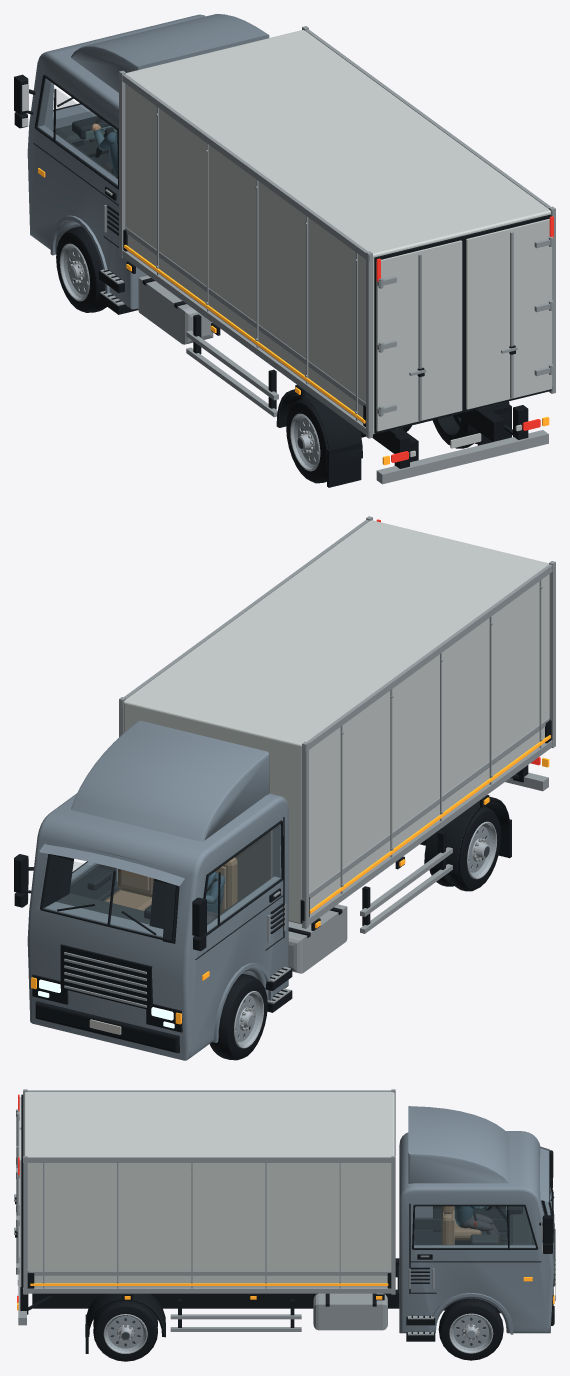
The model's file is boxtruck.glb.
3 views of the same model, one above another, from view 1: azimuth 30°, elevation 25°; view 2: azimuth 150°, elevation 25°; view 3: azimuth 270°, elevation 25° (orthographic). The views are drawn at different scales.
Parts seen in each view (by area): view 1: detail.006, detail.002, body, Cab cooling louver -1 00, detail.001, commercial_tire_and_vented_steel_rim, commercial_tire_and_vented_steel_rim.002, Adjustable head restraint, detail.004, commercial_tire_and_vented_steel_rim.003; view 2: detail.006, body, detail.002, Cab cooling louver -1 00, detail.001, Adjustable head restraint, commercial_tire_and_vented_steel_rim, commercial_tire_and_vented_steel_rim.002, detail.004; view 3: detail.006, body, detail.002, Cab cooling louver -1 00, detail.001, Adjustable head restraint, commercial_tire_and_vented_steel_rim.001, commercial_tire_and_vented_steel_rim.003, detail.004, sealed_front_wheel_liners.
Part boxes in pixels (x1=…): detail.006: x1=125, y1=30, x2=551, y2=456; detail.002: x1=100, y1=26, x2=555, y2=484; body: x1=27, y1=14, x2=269, y2=309; Cab cooling louver -1 00: x1=14, y1=74, x2=551, y2=487; detail.001: x1=37, y1=80, x2=117, y2=185; commercial_tire_and_vented_steel_rim: x1=56, y1=226, x2=106, y2=312; commercial_tire_and_vented_steel_rim.002: x1=286, y1=398, x2=326, y2=483; Adjustable head restraint: x1=53, y1=116, x2=117, y2=178; detail.004: x1=38, y1=168, x2=365, y2=423; commercial_tire_and_vented_steel_rim.003: x1=432, y1=415, x2=477, y2=448; detail.006: x1=124, y1=520, x2=549, y2=924; body: x1=27, y1=720, x2=288, y2=1060; detail.002: x1=64, y1=516, x2=555, y2=1007; Cab cooling louver -1 00: x1=14, y1=720, x2=551, y2=1053; detail.001: x1=43, y1=827, x2=281, y2=939; Adjustable head restraint: x1=56, y1=829, x2=272, y2=925; commercial_tire_and_vented_steel_rim: x1=210, y1=974, x2=267, y2=1060; commercial_tire_and_vented_steel_rim.002: x1=429, y1=806, x2=500, y2=891; detail.004: x1=202, y1=735, x2=550, y2=980; detail.006: x1=17, y1=1092, x2=394, y2=1295; body: x1=399, y1=1106, x2=554, y2=1334; detail.002: x1=14, y1=1089, x2=555, y2=1335; Cab cooling louver -1 00: x1=15, y1=1094, x2=554, y2=1353; detail.001: x1=414, y1=1191, x2=551, y2=1247; Adjustable head restraint: x1=433, y1=1206, x2=535, y2=1245; commercial_tire_and_vented_steel_rim.001: x1=438, y1=1298, x2=503, y2=1360; commercial_tire_and_vented_steel_rim.003: x1=93, y1=1301, x2=157, y2=1361; detail.004: x1=30, y1=1277, x2=532, y2=1299; sealed_front_wheel_liners: x1=414, y1=1217, x2=507, y2=1245.
Bounding box in the file's own units: 2.47 × 3.47 × 8.19.
